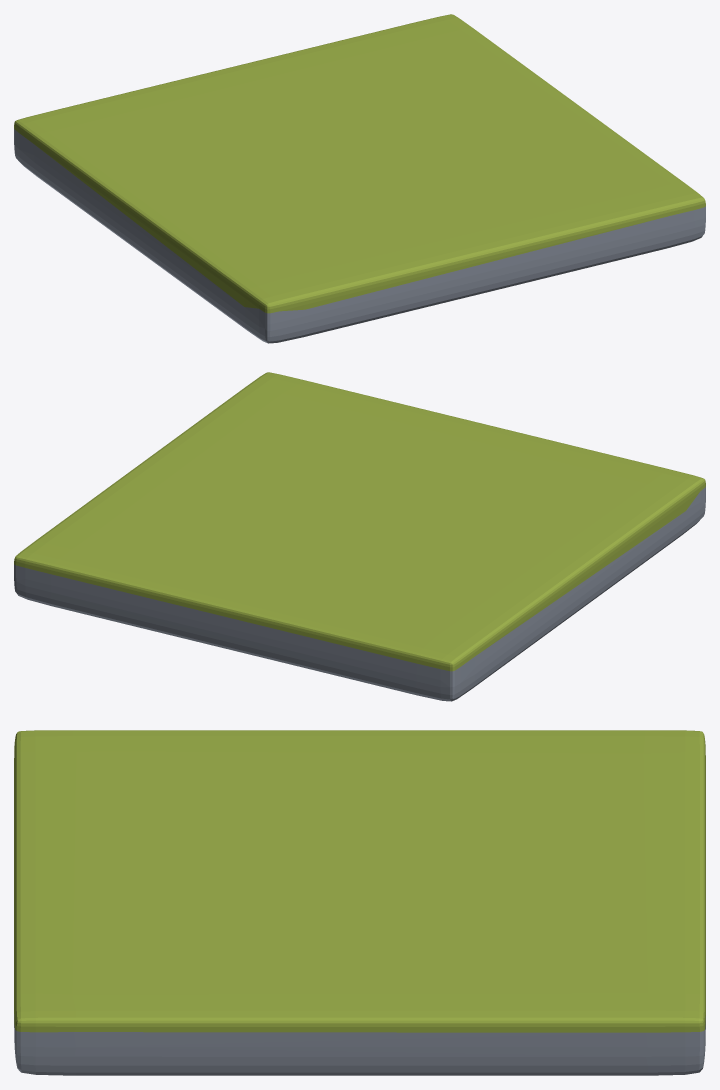
Rendered from Horizontal Platform 5.fbx.
3 renders of one model, top to bottom at view 1: azimuth 30°, elevation 25°; view 2: azimuth 150°, elevation 25°; view 3: azimuth 270°, elevation 25°, orthographic. The views are drawn at different scales.
Visible parts, largest first — view 1: Cube.011; view 2: Cube.011; view 3: Cube.011.
Part boxes in pixels (bbox=[...]): Cube.011: bbox=[14, 14, 705, 343]; Cube.011: bbox=[14, 372, 705, 701]; Cube.011: bbox=[14, 730, 705, 1075].
Bounding box in the file's own units: 2000 × 200 × 2000.
